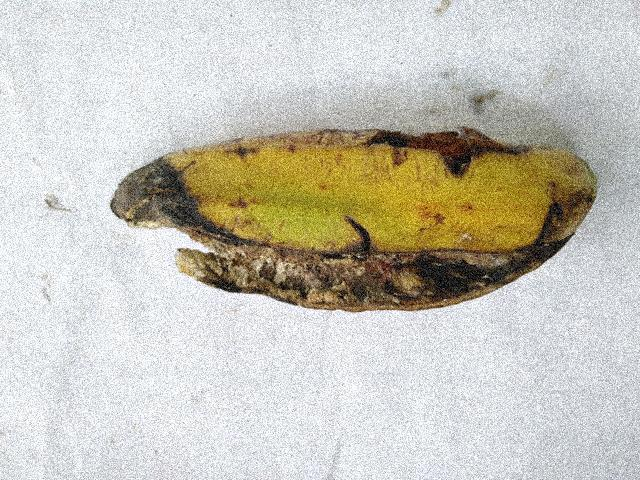rotten: (75, 119, 549, 358)
